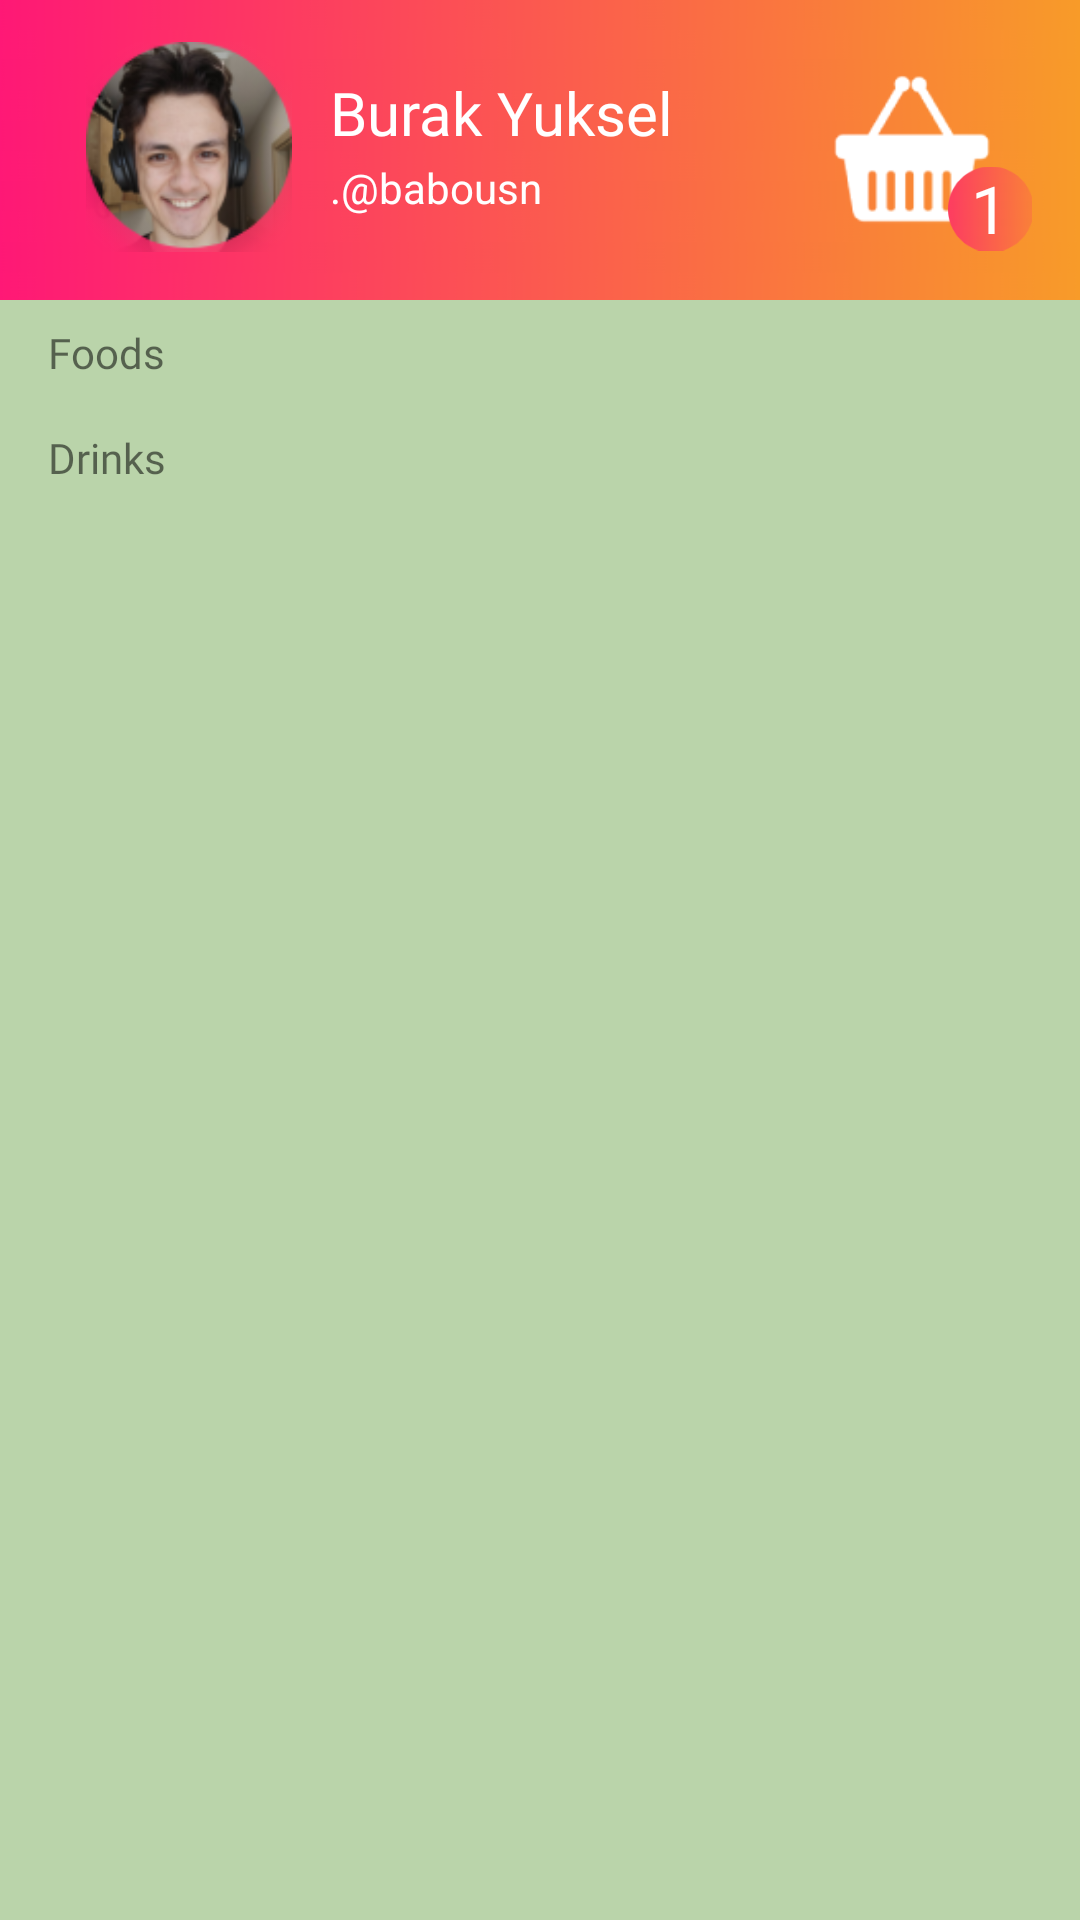

Icon click points for this 1080×1920 phone screenshot, format (x,y):
cart: (915,154)
notball: (988,208)
profilesized: (188,147)
